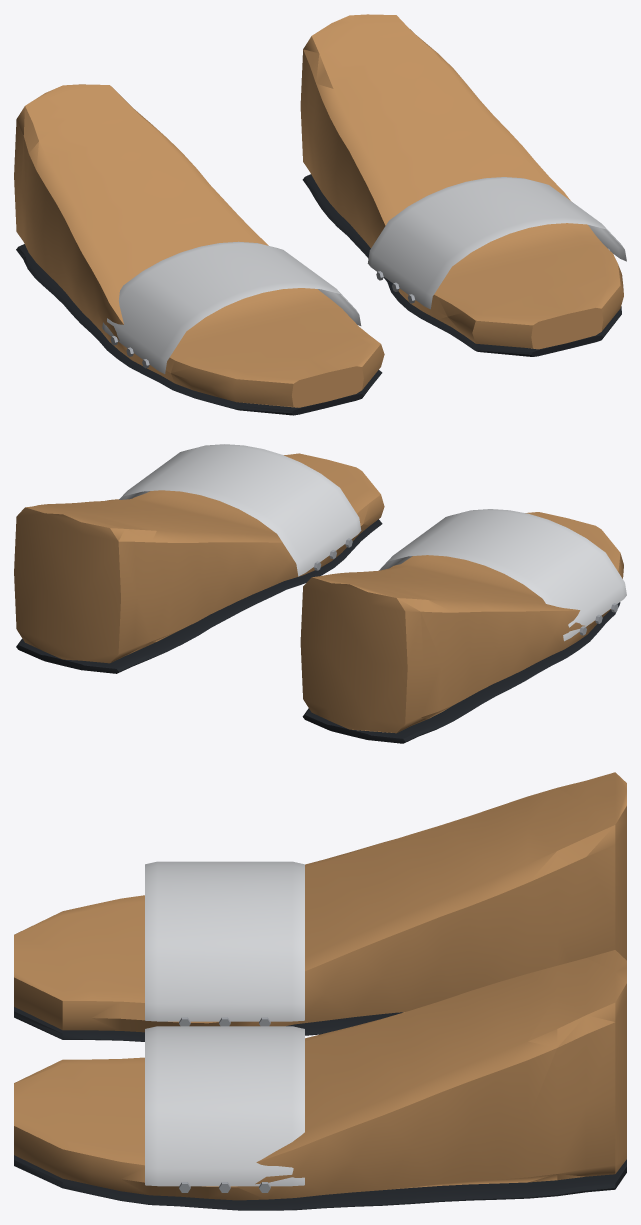
Rendered from guoc_cao_vn.mid.glb.
The picture shows the model from 3 angles, top to bottom: view 1: azimuth 30°, elevation 25°; view 2: azimuth 150°, elevation 25°; view 3: azimuth 270°, elevation 25°; orthographic projection. The views are drawn at different scales.
Parts seen in each view (by area): view 1: guoc_cao_vn; view 2: guoc_cao_vn; view 3: guoc_cao_vn.
Boxes of the visible parts, x1,y1,x2,y2 form: guoc_cao_vn: [14, 14, 626, 415]; guoc_cao_vn: [14, 444, 626, 743]; guoc_cao_vn: [14, 772, 626, 1210].
Bounding box in the file's own units: 0.2378 × 0.073 × 0.2107.
